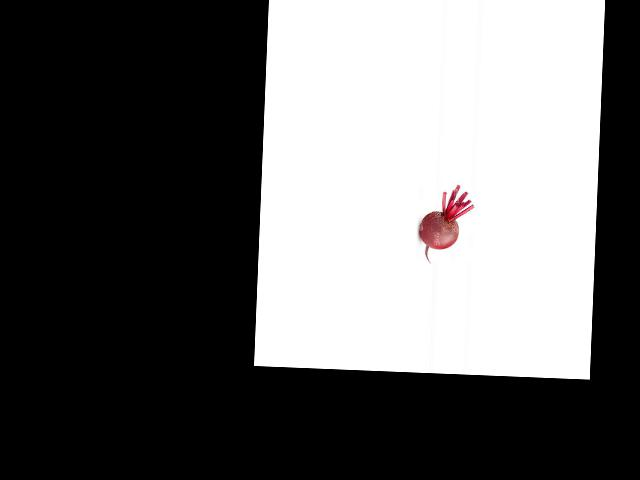beet: (418, 183, 474, 264)
